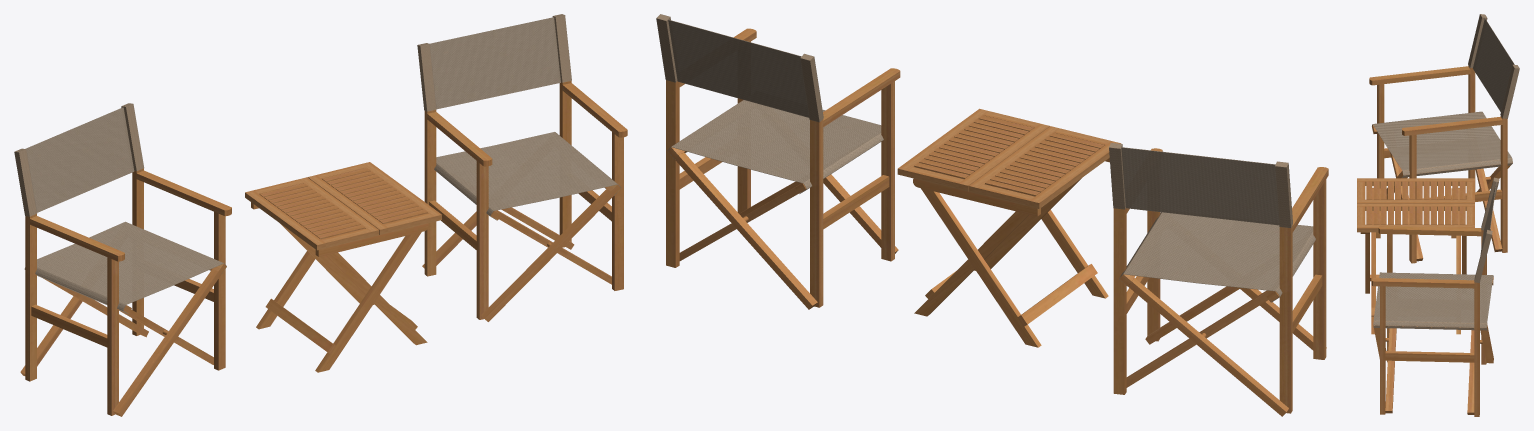
Rendered from carryset_nocolor.fbx.
3 views of the same model, side by side, from view 1: azimuth 30°, elevation 25°; view 2: azimuth 150°, elevation 25°; view 3: azimuth 270°, elevation 25° (orthographic). The views are drawn at different scales.
Parts seen in each view (by area): view 1: キャリーディレクターチェアー修正前.002, キャリーディレクターチェアー修正前.001, carry-sidetable.001; view 2: キャリーディレクターチェアー修正前.001, キャリーディレクターチェアー修正前.002, carry-sidetable.001; view 3: キャリーディレクターチェアー修正前.001, キャリーディレクターチェアー修正前.002, carry-sidetable.001.
Boxes of the visible parts, left/top/right/bottom form: キャリーディレクターチェアー修正前.002: left=417, top=14, right=627, bottom=321; キャリーディレクターチェアー修正前.001: left=14, top=103, right=231, bottom=416; carry-sidetable.001: left=245, top=162, right=441, bottom=372; キャリーディレクターチェアー修正前.001: left=1109, top=143, right=1328, bottom=416; キャリーディレクターチェアー修正前.002: left=656, top=14, right=900, bottom=309; carry-sidetable.001: left=897, top=108, right=1121, bottom=347; キャリーディレクターチェアー修正前.001: left=1369, top=14, right=1519, bottom=263; キャリーディレクターチェアー修正前.002: left=1371, top=177, right=1499, bottom=416; carry-sidetable.001: left=1357, top=178, right=1474, bottom=334.
Size of the model in its own units: 221 by 85.94 by 69.
7 materials, 7 textured.
